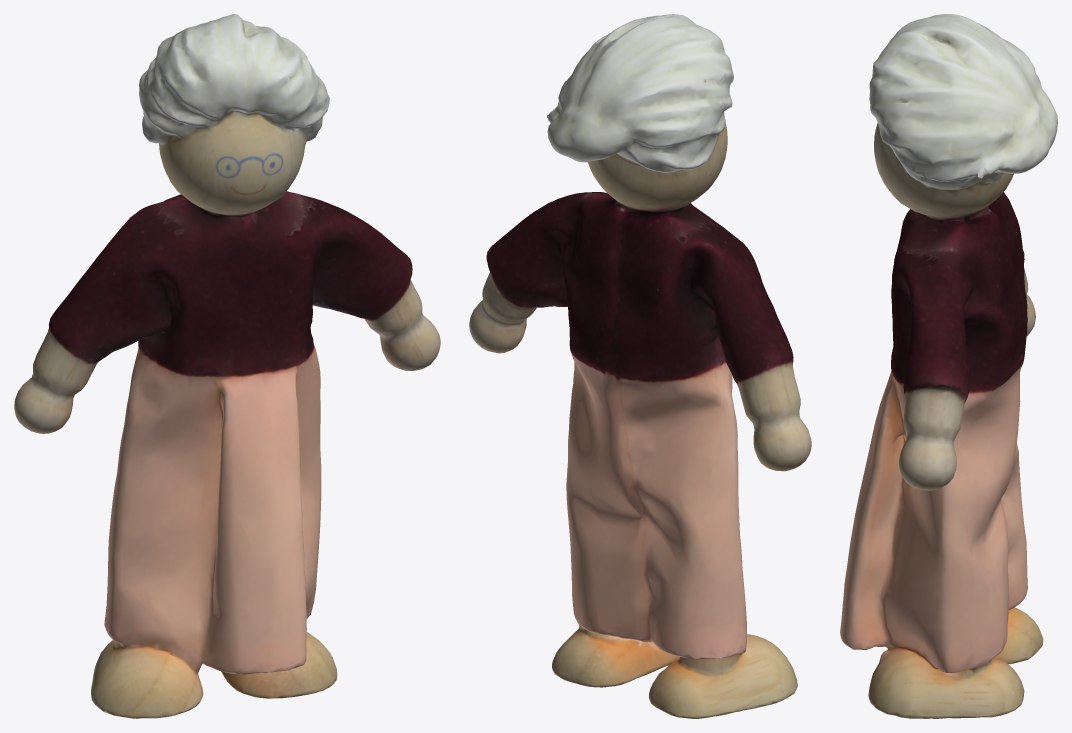
File: GRANDMOTHER.glb
The picture shows the model from 3 angles, left to right: view 1: azimuth 30°, elevation 25°; view 2: azimuth 150°, elevation 25°; view 3: azimuth 270°, elevation 25°; orthographic projection.
Visible parts, largest first — view 1: GRANDMOTHER; view 2: GRANDMOTHER; view 3: GRANDMOTHER.
Boxes of the visible parts, box(x1,y1,x2,y2) form: GRANDMOTHER: box(14, 14, 440, 718); GRANDMOTHER: box(469, 14, 811, 718); GRANDMOTHER: box(840, 14, 1057, 718).
Bounding box in the file's own units: 0.0769 × 0.1268 × 0.0384.
1 material, 1 textured.
